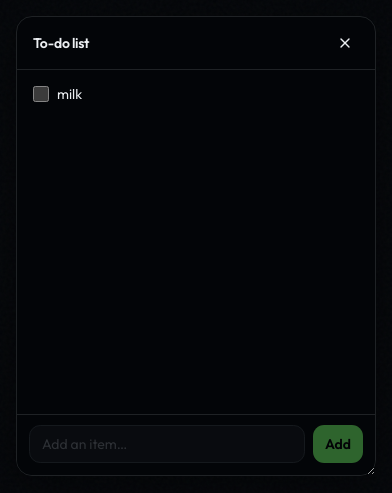
optimistically appends a note on add
Check: the button "milk" is shown, box 57,84 -> 271,104
Note: Wait for the initial load to settle before adding (avoids a load-vs-append race).
Type "eggs" into the field with placeholder "Add an item…".
click(167, 444); type("eggs")  # box 29,425 -> 305,463
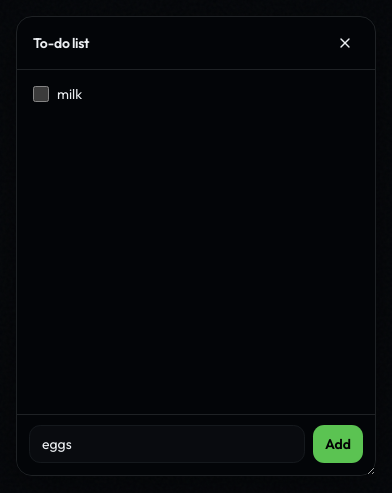
Submit the form with placeholder "add an item", box 29,425 -> 363,463
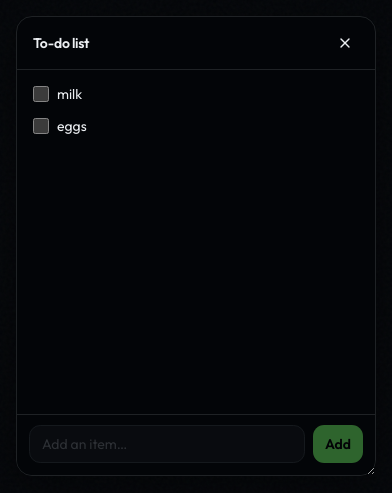
Check: the button "eggs" is shown, box 57,116 -> 271,136
